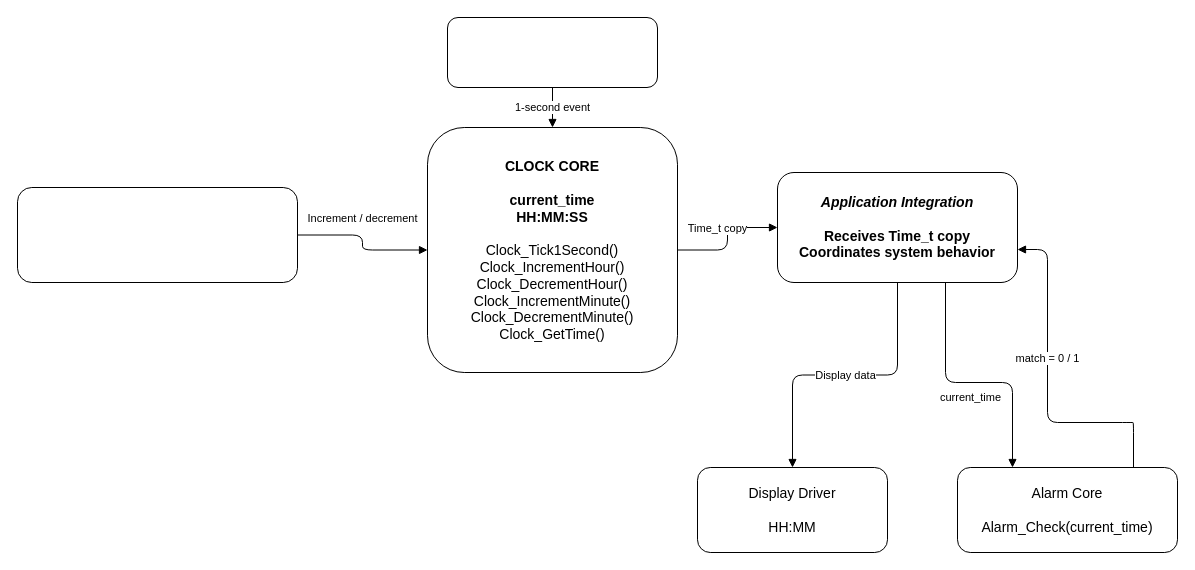
The diagram is 1195 pixels wide and 570 high, and some of its shapes have lost their labels. The box of each missing label's shape, as (x1, y1, x2, y2) in pixels:
Application FSM / Setting Control SW6 / SW10 adjustment requests: (16, 186, 298, 282)
Timer / Interrupt 1-second event: (446, 16, 658, 88)
